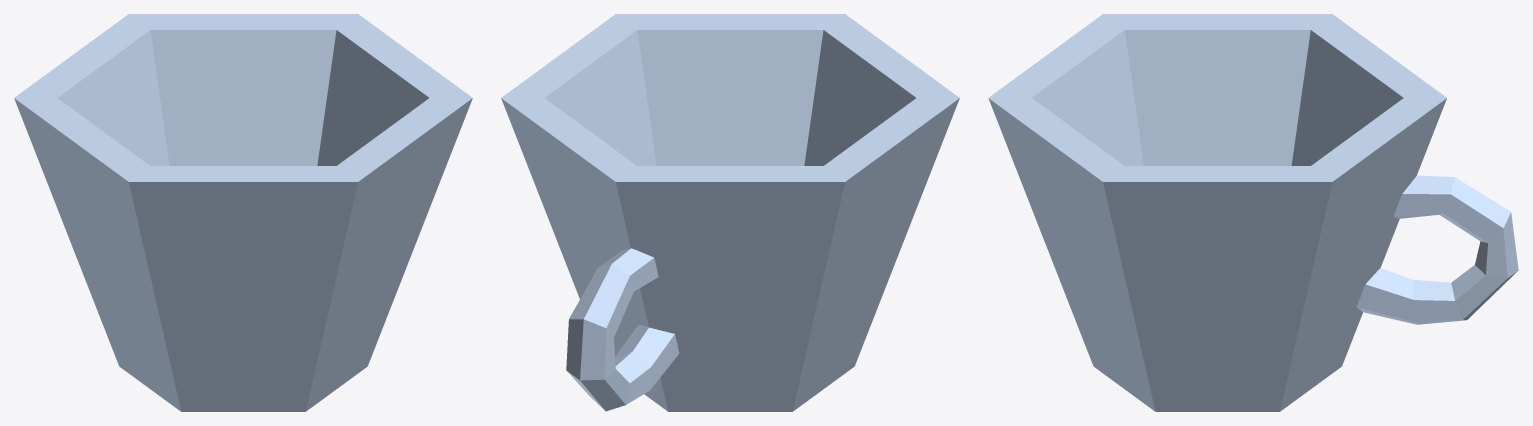
Rendered from teacup.fbx.
The picture shows the model from 3 angles, left to right: view 1: azimuth 30°, elevation 25°; view 2: azimuth 150°, elevation 25°; view 3: azimuth 270°, elevation 25°; orthographic projection.
Visible parts, largest first — view 1: teacup; view 2: teacup; view 3: teacup.
Boxes of the visible parts, x1,y1,x2,y2 form: teacup: [14, 14, 472, 411]; teacup: [501, 14, 959, 411]; teacup: [988, 14, 1518, 411].
Bounding box in the file's own units: 123 × 91.91 × 165.
